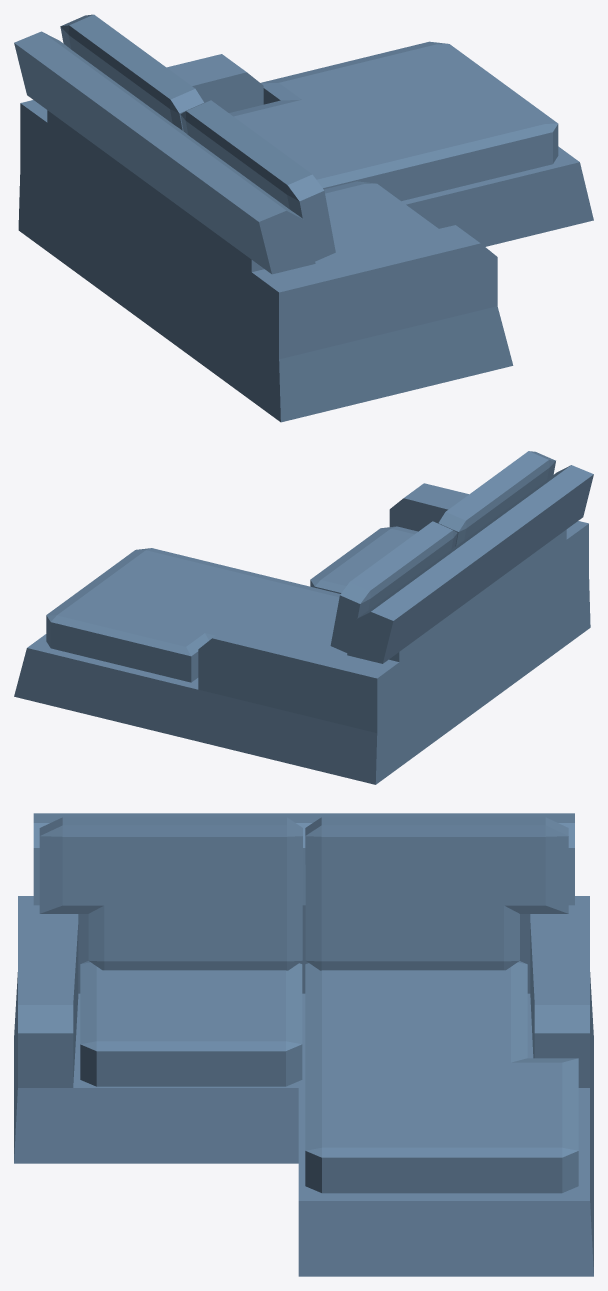
Rendered from SofaLong.glb.
3 renders of one model, top to bottom at view 1: azimuth 30°, elevation 25°; view 2: azimuth 150°, elevation 25°; view 3: azimuth 270°, elevation 25°, orthographic. The views are drawn at different scales.
Bounding box in the file's own units: 1.37 × 0.6276 × 1.36.
